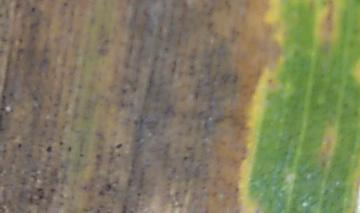tarspot: (220, 72, 239, 87), (161, 103, 176, 118), (27, 17, 40, 29), (1, 94, 7, 117), (204, 19, 215, 31), (191, 89, 201, 101), (169, 58, 176, 75), (98, 46, 109, 56), (125, 177, 135, 188), (79, 182, 88, 193), (94, 204, 104, 213), (16, 36, 25, 46), (120, 202, 128, 213), (115, 141, 123, 151), (15, 46, 25, 54), (76, 152, 86, 160), (320, 158, 328, 168), (187, 62, 196, 70), (93, 153, 103, 160), (29, 7, 37, 15), (135, 189, 142, 198), (61, 1, 70, 8), (120, 86, 127, 95), (132, 119, 139, 127), (127, 206, 135, 213), (161, 46, 169, 53), (105, 181, 111, 190), (97, 189, 104, 196), (182, 154, 189, 161), (119, 100, 126, 107), (48, 186, 55, 193), (58, 199, 65, 206), (46, 145, 52, 153), (67, 144, 73, 152), (37, 193, 45, 199), (17, 142, 23, 149), (36, 186, 43, 192), (7, 90, 14, 96), (58, 140, 64, 146)
